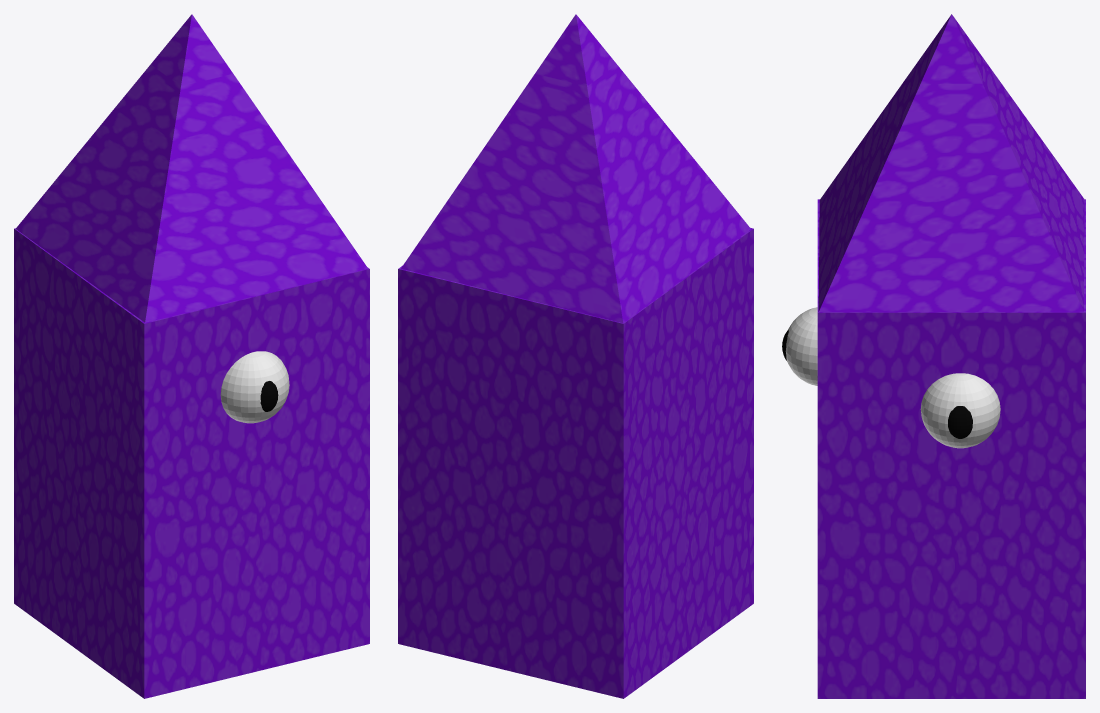
File: squidHead.glb
The picture shows the model from 3 angles, left to right: view 1: azimuth 30°, elevation 25°; view 2: azimuth 150°, elevation 25°; view 3: azimuth 270°, elevation 25°; orthographic projection. The views are drawn at different scales.
Visible parts, largest first — view 1: Cube, Cone, Sphere.001; view 2: Cube, Cone; view 3: Cube, Cone, Sphere, Sphere.001, Sphere.003.
Part boxes in pixels (box(x1,y1,x2,y2)): Cube: box(14, 228, 369, 698); Cone: box(16, 14, 367, 322); Sphere.001: box(220, 351, 289, 423); Cube: box(398, 228, 753, 698); Cone: box(401, 14, 750, 323); Cube: box(817, 199, 1085, 698); Cone: box(818, 14, 1084, 311); Sphere: box(920, 373, 1000, 448); Sphere.001: box(785, 307, 817, 385); Sphere.003: box(948, 406, 972, 438).
Size of the model in its own units: 2.3 by 5.17 by 2.26.
Materials: 4 (2 with a texture image).
